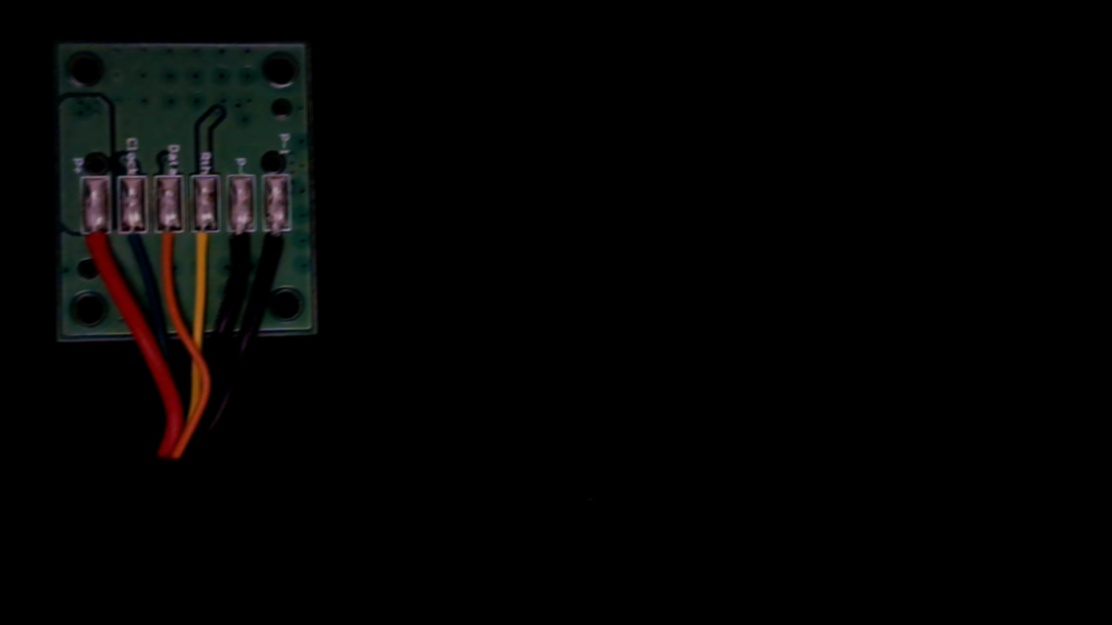Black: (225, 214, 255, 278)
Black1: (264, 213, 293, 272)
Green: (117, 214, 148, 275)
Orange: (155, 215, 185, 278)
Red: (80, 220, 112, 282)
Yellow: (190, 212, 221, 277)
